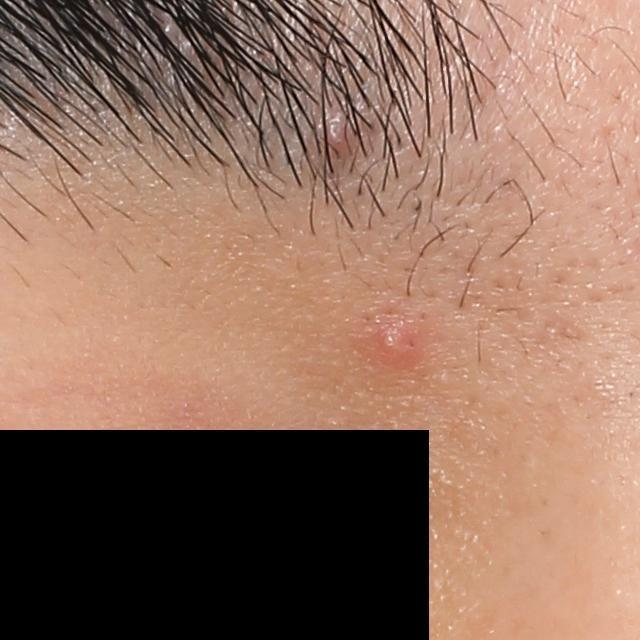papule: (314, 115, 358, 161)
